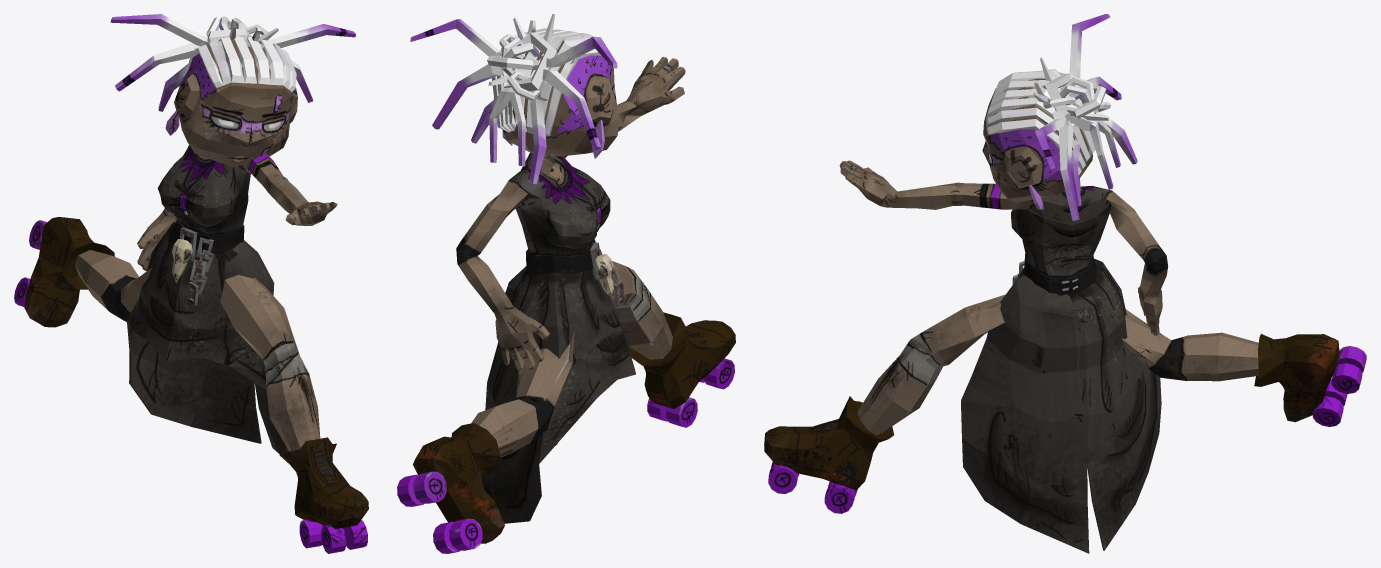
File: bruja_000023.obj
3 renders of one model, left to right at view 1: azimuth 30°, elevation 25°; view 2: azimuth 150°, elevation 25°; view 3: azimuth 270°, elevation 25°, orthographic. The views are drawn at different scales.
Parts seen in each view (by area): view 1: Bruja_Plane.001; view 2: Bruja_Plane.001; view 3: Bruja_Plane.001.
Part boxes in pixels (bbox=[...]): Bruja_Plane.001: bbox=[14, 14, 368, 553]; Bruja_Plane.001: bbox=[397, 14, 735, 553]; Bruja_Plane.001: bbox=[764, 14, 1366, 553].
Bounding box in the file's own units: 7.16 × 14.63 × 16.98.
